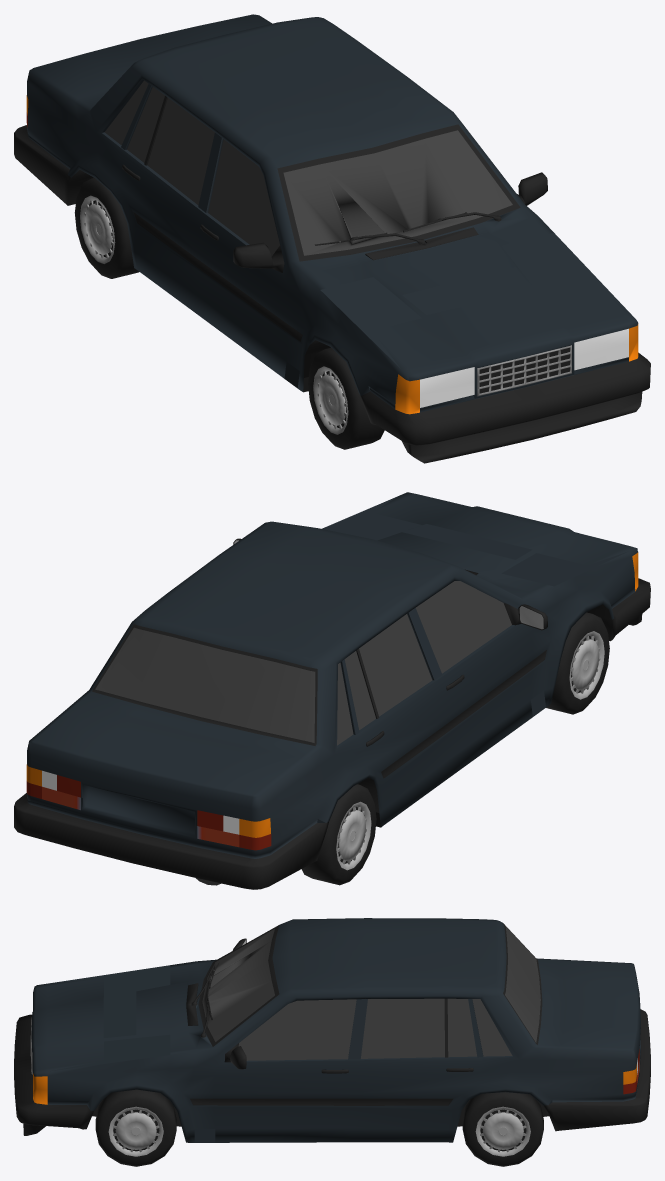
3 renders of one model, top to bottom at view 1: azimuth 30°, elevation 25°; view 2: azimuth 150°, elevation 25°; view 3: azimuth 270°, elevation 25°, orthographic. The views are drawn at different scales.
Parts seen in each view (by area): view 1: e1; view 2: e1; view 3: e1.
Boxes of the visible parts, x1,y1,x2,y2 form: e1: (14,14,650,463); e1: (14,492,650,889); e1: (14,918,650,1166).
Size of the model in its own units: 2.13 by 1.39 by 4.78.
Materials: 1 (1 with a texture image).
